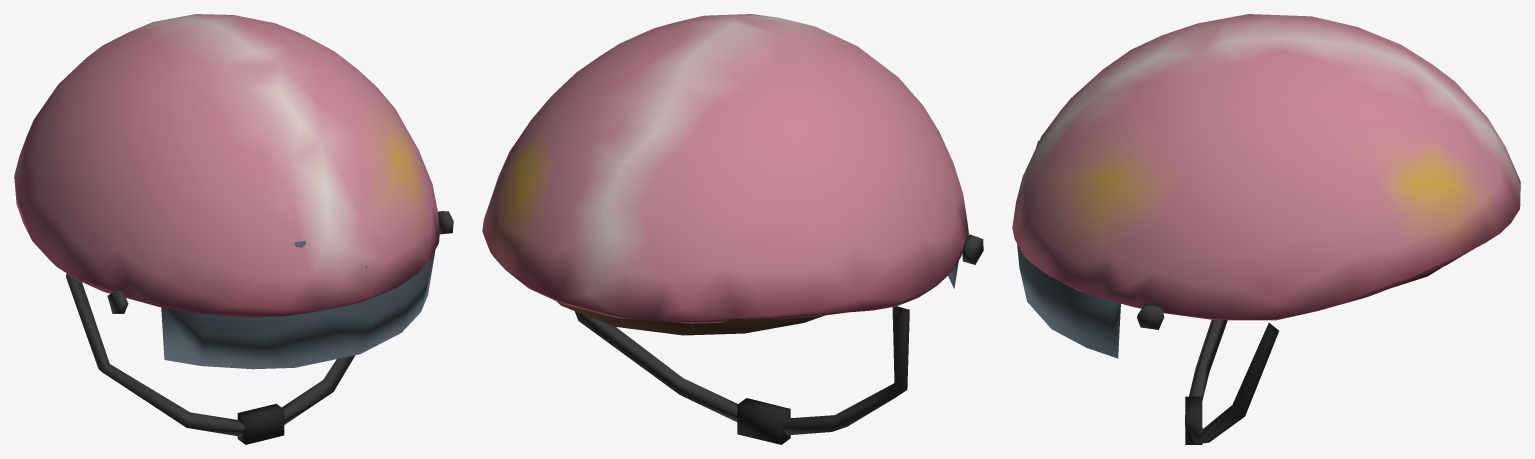
The model's file is mu_khach_quen.glb.
3 renders of one model, left to right at view 1: azimuth 30°, elevation 25°; view 2: azimuth 150°, elevation 25°; view 3: azimuth 270°, elevation 25°, orthographic. The views are drawn at different scales.
Parts seen in each view (by area): view 1: mu_khach_quen; view 2: mu_khach_quen; view 3: mu_khach_quen.
Boxes of the visible parts, x1=… form: mu_khach_quen: x1=14, y1=14, x2=453, y2=444; mu_khach_quen: x1=482, y1=14, x2=983, y2=444; mu_khach_quen: x1=1012, y1=14, x2=1520, y2=444.
Bounding box in the file's own units: 0.2573 × 0.2586 × 0.2969.
